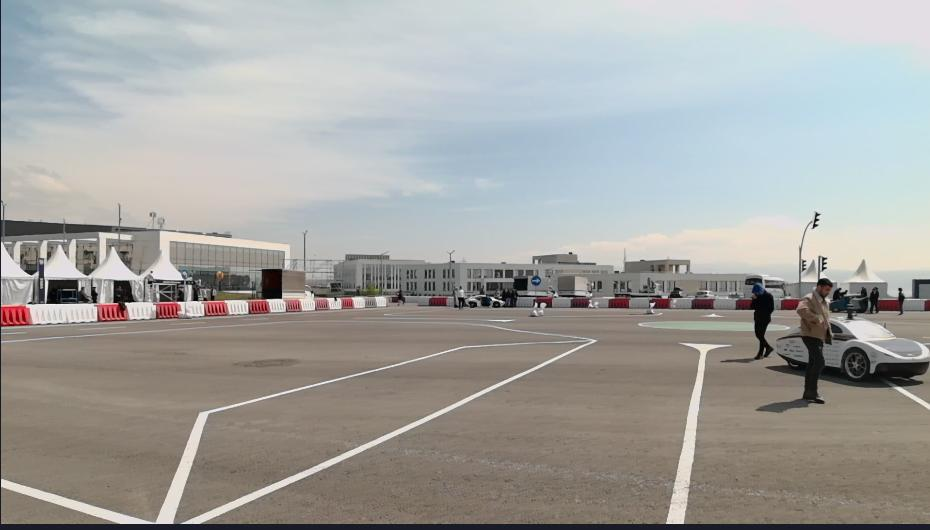nesne: (5, 305, 930, 530), (163, 327, 734, 529), (160, 337, 596, 530), (158, 337, 589, 522), (183, 340, 598, 529), (658, 330, 929, 526), (774, 277, 930, 403), (2, 318, 575, 347), (664, 339, 732, 529), (0, 296, 386, 322), (3, 479, 163, 529), (796, 278, 835, 403), (518, 296, 752, 309), (751, 282, 775, 361), (637, 319, 786, 330), (881, 378, 929, 412), (27, 303, 97, 325), (546, 310, 661, 317), (828, 294, 866, 311), (464, 294, 504, 307), (2, 305, 29, 324), (126, 301, 155, 318), (98, 301, 126, 317), (156, 301, 180, 318), (500, 286, 518, 306), (225, 298, 248, 313), (868, 284, 881, 310), (203, 299, 226, 313), (180, 301, 201, 316), (668, 296, 692, 309), (712, 297, 738, 309), (900, 297, 920, 312), (895, 284, 905, 314), (400, 295, 430, 304), (529, 300, 545, 316), (690, 297, 713, 308), (629, 297, 650, 308), (248, 301, 269, 312), (455, 284, 465, 306), (608, 298, 630, 308), (880, 298, 896, 311), (299, 299, 316, 311), (857, 281, 868, 299), (267, 300, 285, 311), (285, 298, 300, 311), (571, 297, 590, 307), (648, 298, 669, 307), (528, 273, 542, 286), (832, 286, 849, 296), (427, 296, 448, 304), (551, 298, 572, 306), (535, 298, 550, 309), (736, 298, 751, 309), (515, 296, 533, 305), (591, 297, 608, 306), (364, 297, 377, 308), (351, 296, 364, 307), (342, 297, 353, 308), (327, 299, 340, 308), (316, 299, 328, 308), (375, 296, 385, 306), (923, 297, 929, 311)
